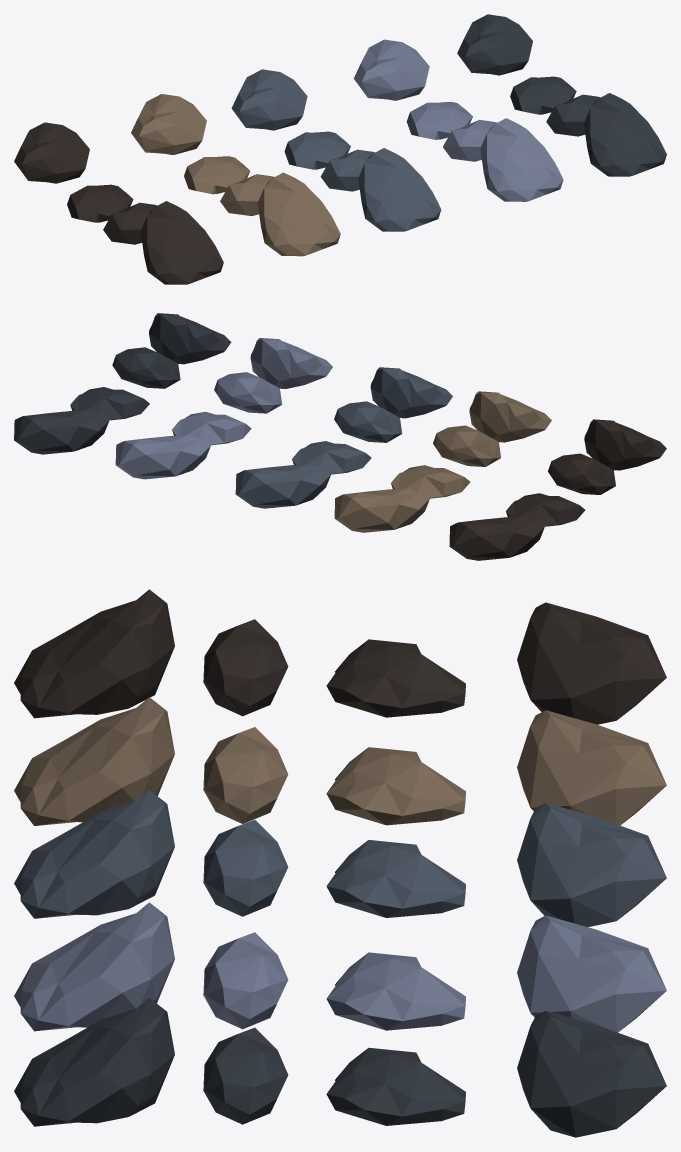
File: rocks.fbx
3 views of the same model, one above another, from view 1: azimuth 30°, elevation 25°; view 2: azimuth 150°, elevation 25°; view 3: azimuth 270°, elevation 25° (orthographic). The views are drawn at different scales.
Visible parts, largest first — view 1: rock17, rock9, rock1, rock5, rock13, rock7, rock19, rock3, rock11, rock15, rock18, rock2 (+8 smaller); view 2: rock19, rock3, rock7, rock15, rock11, rock13, rock17, rock9, rock1, rock5, rock0, rock8 (+8 smaller); view 3: rock1, rock17, rock9, rock3, rock11, rock5, rock19, rock13, rock7, rock15, rock6, rock2 (+8 smaller).
Part boxes in pixels (left/top/right/bottom): rock17: left=140, top=201, right=223, bottom=284; rock9: left=358, top=148, right=441, bottom=231; rock1: left=584, top=93, right=666, bottom=176; rock5: left=480, top=118, right=563, bottom=201; rock13: left=257, top=172, right=340, bottom=256; rock7: left=353, top=39, right=429, bottom=100; rock19: left=14, top=122, right=89, bottom=183; rock3: left=457, top=14, right=532, bottom=75; rock11: left=231, top=69, right=307, bottom=130; rock15: left=131, top=94, right=206, bottom=154; rock18: left=67, top=184, right=133, bottom=222; rock2: left=510, top=76, right=576, bottom=114; rock19: left=449, top=516, right=544, bottom=560; rock3: left=14, top=410, right=109, bottom=454; rock7: left=115, top=434, right=210, bottom=479; rock15: left=334, top=488, right=429, bottom=532; rock11: left=235, top=464, right=330, bottom=508; rock13: left=469, top=391, right=551, bottom=442; rock17: left=584, top=419, right=666, bottom=470; rock9: left=370, top=367, right=452, bottom=418; rock1: left=149, top=313, right=231, bottom=364; rock5: left=250, top=338, right=332, bottom=388; rock0: left=112, top=347, right=180, bottom=388; rock8: left=334, top=401, right=402, bottom=442; rock1: left=14, top=997, right=174, bottom=1126; rock17: left=14, top=589, right=174, bottom=718; rock9: left=14, top=790, right=174, bottom=918; rock3: left=517, top=1011, right=666, bottom=1137; rock11: left=517, top=803, right=666, bottom=926; rock5: left=14, top=902, right=174, bottom=1031; rock19: left=517, top=602, right=666, bottom=724; rock13: left=14, top=697, right=174, bottom=825; rock7: left=517, top=915, right=666, bottom=1032; rock15: left=517, top=710, right=666, bottom=825; rock6: left=326, top=952, right=465, bottom=1030; rock2: left=326, top=1047, right=465, bottom=1125.
Bounding box in the file's own units: 13.43 × 1.44 × 7.73.
